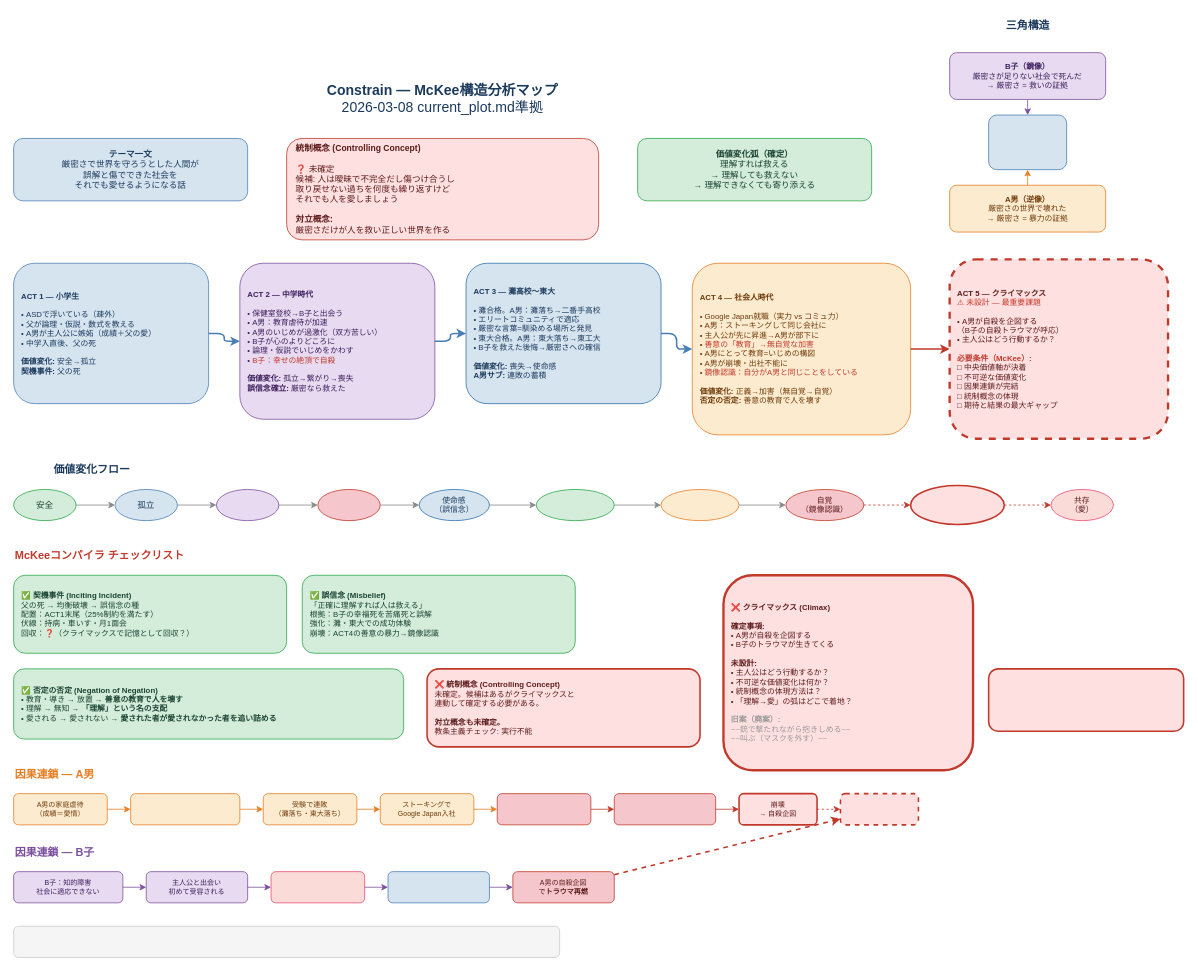
Some shapes in this 1198 by 971 pixel diagram are drawn without their labels. The centre of each missing label's shape, as x and y in pixels:
"❌ エンディング 未設計。旧案：数年後の面会室 A男が自殺企図に変更された場合 面会室の設定が成立するか？" goes at point 1085,700.
"❓ クライマックス" goes at point 957,504.
"❓ 主人公の行動" goes at point 879,808.
"主人公 両方を理解し 「それでも愛する」を選択" goes at point 1027,142.
"主人公の誤解 「厳密なら救えた」" goes at point 438,887.
"主人公の部下に → また負ける" goes at point 543,809.
"凡例 🔵 青=主人公・論理 🟣 紫=B子・儚さ 🟠 橙=A男・嫉妬 🔴 赤=喪失・警告・未設計 🟢 緑=確定済 ⬜ 破線=未接続" goes at point 286,941.
"加害 （善意の暴力）" goes at point 699,505.
"善意の教育 ＝幼少期虐待の再現" goes at point 664,809.
"喪失 （B子死）" goes at point 348,505.
"幸せの絶頂で 自殺（幸福死）" goes at point 317,887.
"成功 （厳密の勝利）" goes at point 574,505.
"才能型主人公への嫉妬 ＋父の愛への嫉妬" goes at point 185,809.
"繋がり （B子）" goes at point 247,505.
